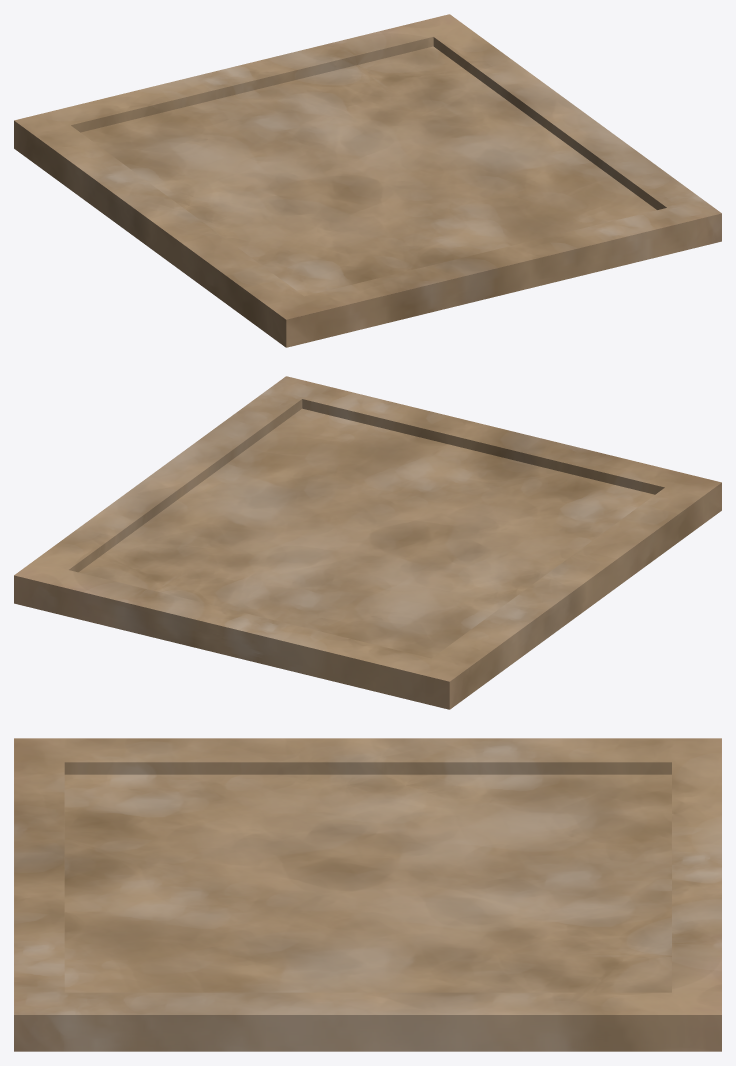
The model's file is floor_tile.fbx.
The picture shows the model from 3 angles, top to bottom: view 1: azimuth 30°, elevation 25°; view 2: azimuth 150°, elevation 25°; view 3: azimuth 270°, elevation 25°; orthographic projection. The views are drawn at different scales.
Parts seen in each view (by area): view 1: Box001; view 2: Box001; view 3: Box001.
Part boxes in pixels (x1,y1,x2,y2): Box001: [14, 14, 721, 347]; Box001: [14, 376, 721, 709]; Box001: [14, 738, 721, 1051].
Size of the model in its own units: 11.72 by 0.7229 by 12.68.
